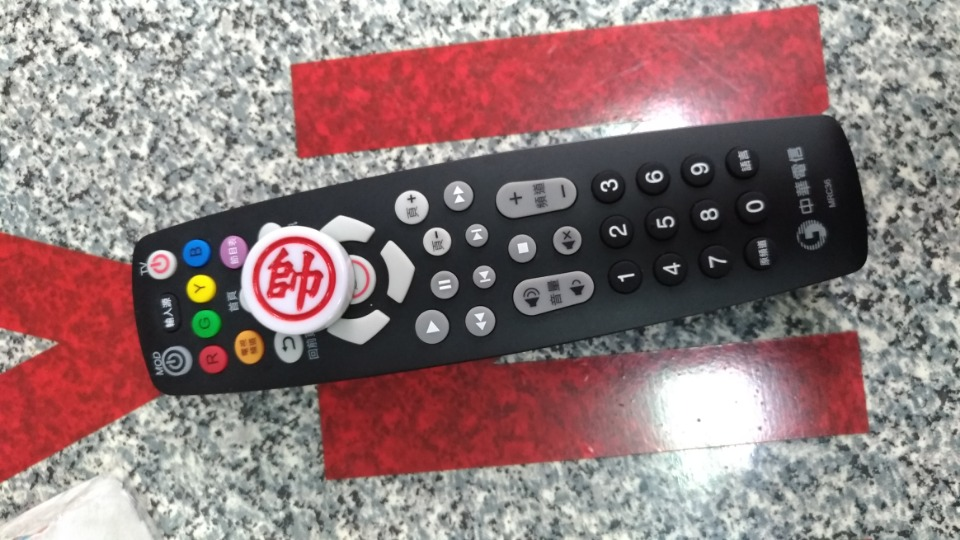r-king: (240, 233, 356, 338)
